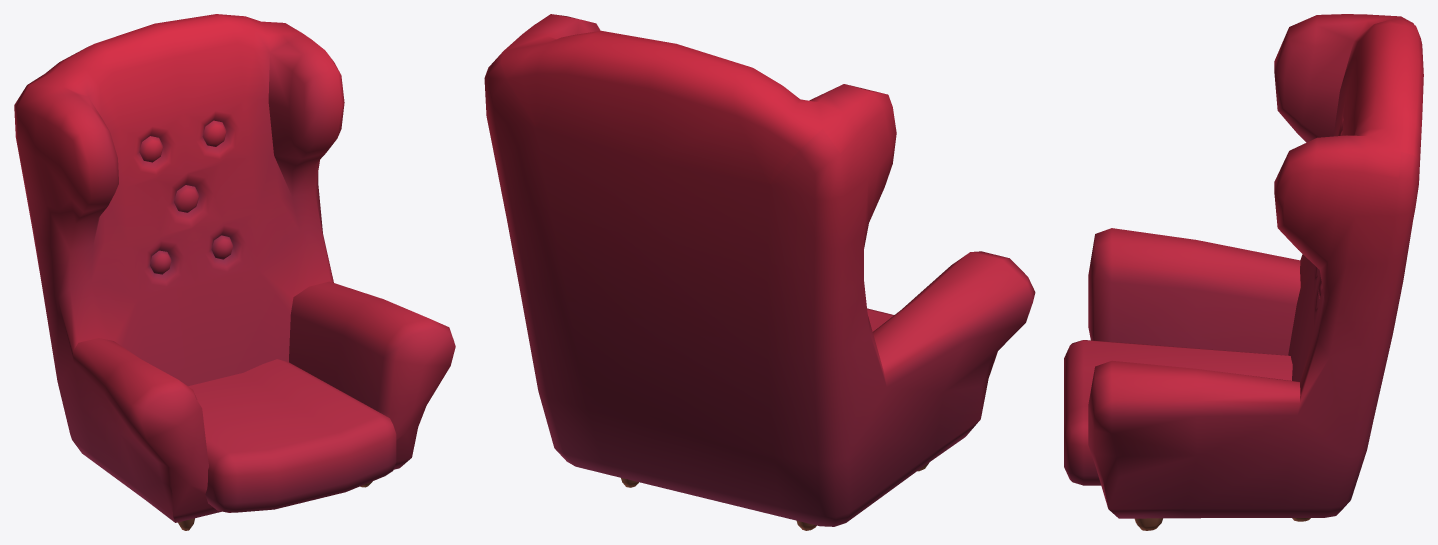
The model's file is chair_large_red.fbx.
3 views of the same model, side by side, from view 1: azimuth 30°, elevation 25°; view 2: azimuth 150°, elevation 25°; view 3: azimuth 270°, elevation 25° (orthographic). The views are drawn at different scales.
Parts seen in each view (by area): view 1: chair_large_red; view 2: chair_large_red; view 3: chair_large_red.
Part boxes in pixels (box(x1,y1,x2,y2)): chair_large_red: box(14, 14, 455, 530); chair_large_red: box(484, 14, 1035, 530); chair_large_red: box(1064, 14, 1423, 530).
Bounding box in the file's own units: 183 × 214 × 161.
